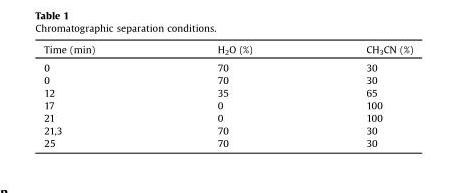table: (43, 43, 412, 148)
table column: (155, 43, 308, 148), (43, 43, 155, 148), (308, 43, 412, 148)
table column header: (43, 43, 412, 58)
table row: (43, 43, 412, 58), (43, 58, 412, 73), (43, 85, 412, 98), (43, 98, 412, 111), (43, 123, 412, 136), (43, 73, 412, 85), (43, 111, 412, 123), (43, 136, 412, 148)
